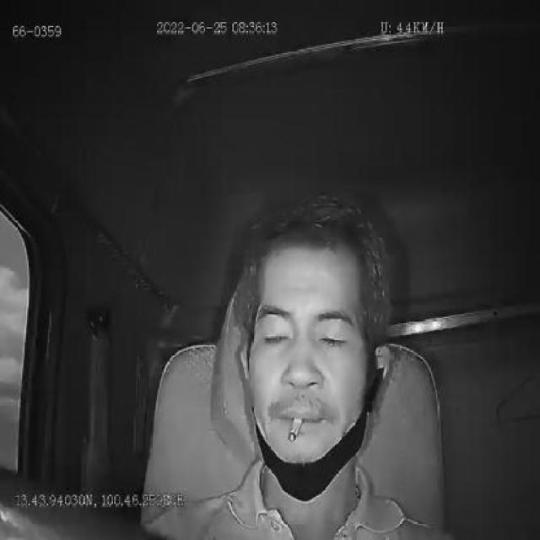smoking: (287, 417, 302, 442)
